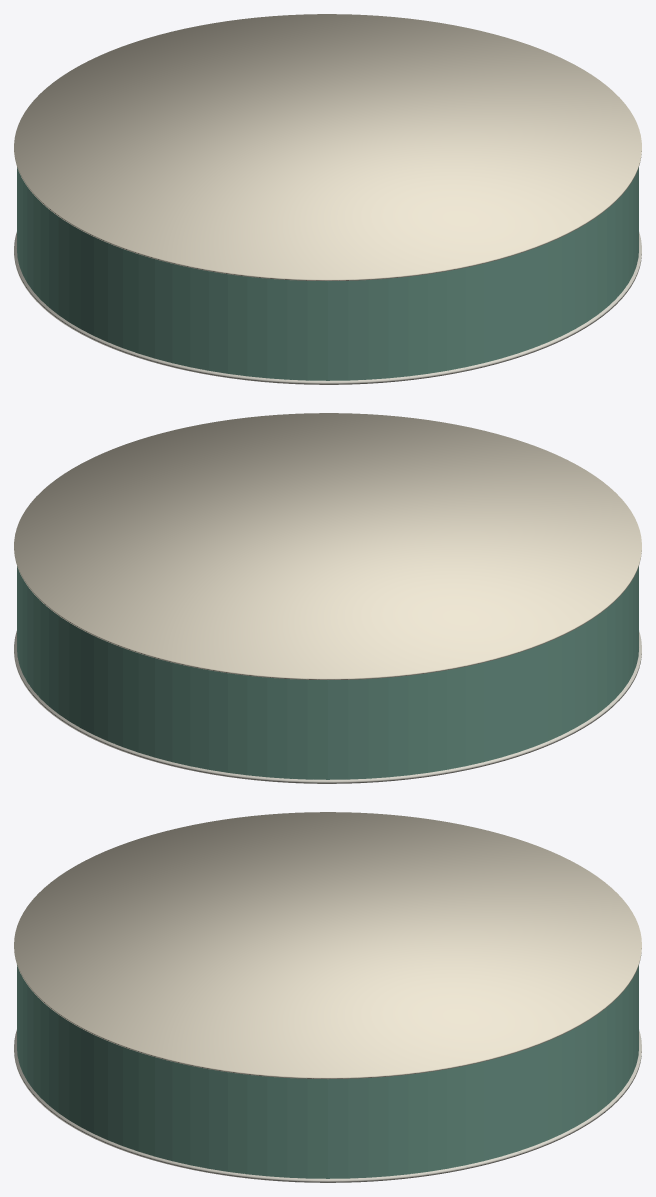
The model's file is day-200-kitchen.glb.
3 renders of one model, top to bottom at view 1: azimuth 30°, elevation 25°; view 2: azimuth 150°, elevation 25°; view 3: azimuth 270°, elevation 25°, orthographic.
Parts seen in each view (by area): view 1: KitchenArchitecture Warm ceramic, KitchenArchitecture Sage enamel, KitchenArchitecture Warm terrazzo; view 2: KitchenArchitecture Warm ceramic, KitchenArchitecture Sage enamel, KitchenArchitecture Warm terrazzo; view 3: KitchenArchitecture Warm ceramic, KitchenArchitecture Sage enamel, KitchenArchitecture Warm terrazzo.
Boxes of the visible parts, box(x1,y1,x2,y2) form: KitchenArchitecture Warm ceramic: box(14, 14, 641, 280); KitchenArchitecture Sage enamel: box(17, 167, 638, 380); KitchenArchitecture Warm terrazzo: box(14, 232, 641, 384); KitchenArchitecture Warm ceramic: box(14, 413, 641, 679); KitchenArchitecture Sage enamel: box(17, 566, 638, 779); KitchenArchitecture Warm terrazzo: box(14, 631, 641, 783); KitchenArchitecture Warm ceramic: box(14, 812, 641, 1079); KitchenArchitecture Sage enamel: box(17, 965, 638, 1178); KitchenArchitecture Warm terrazzo: box(14, 1030, 641, 1182).
Bounding box in the file's own units: 44 × 8.15 × 44.
